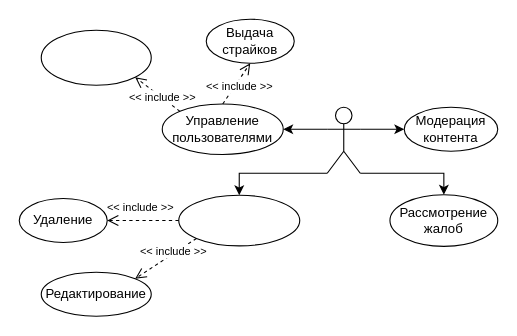
Image size: 517x336. Some labels were removed from this diagram. Here are the shapes that lost their labels. From the top down, the centre of each, then its label:
At (x=95, y=57): "Блокировка пользователей".
At (x=343, y=139): "Админ".
At (x=239, y=220): "Управление объявлениями".
